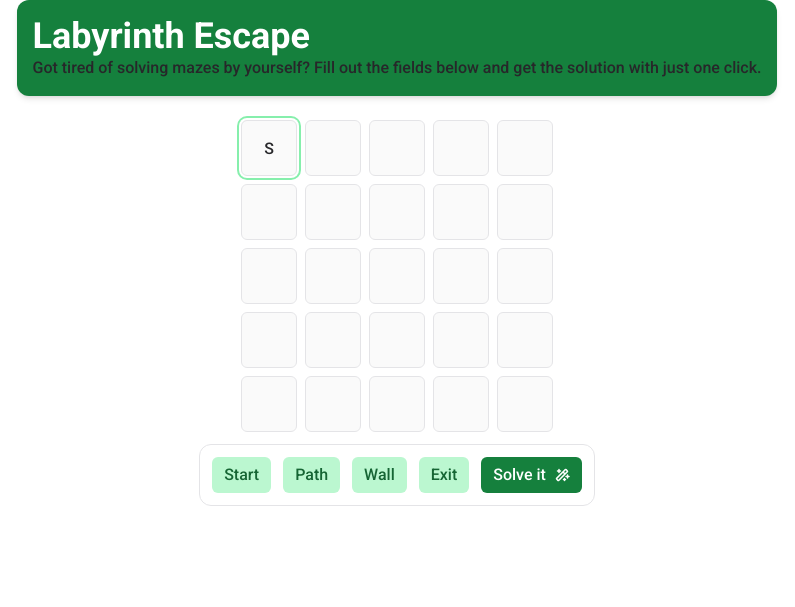
Test: LabyrinthEscape › When a solvable Labyrinth is submitted, it should present a SuccessMessage
The image size is (795, 607).
Click the button with test id "start_button" at (242, 475), box [212, 457, 271, 493]
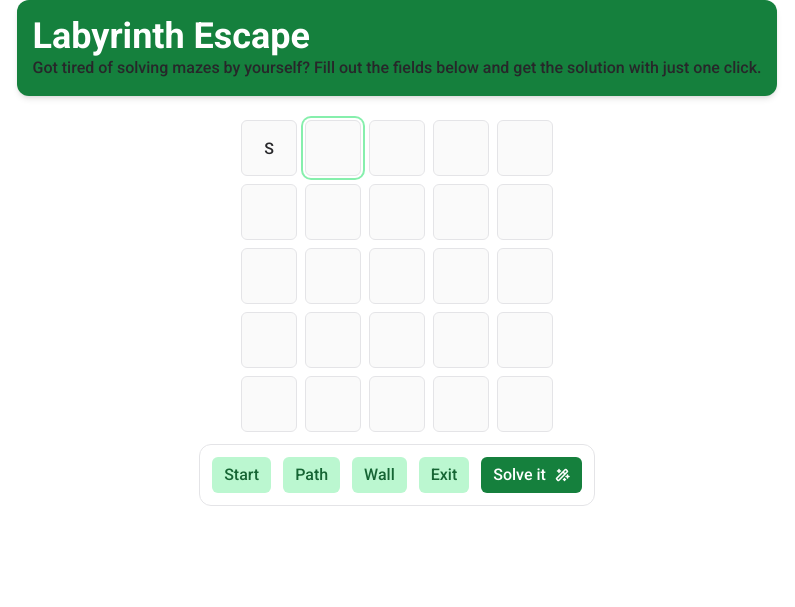
Click the button with test id "exit_button" at (444, 475), box [419, 457, 469, 493]
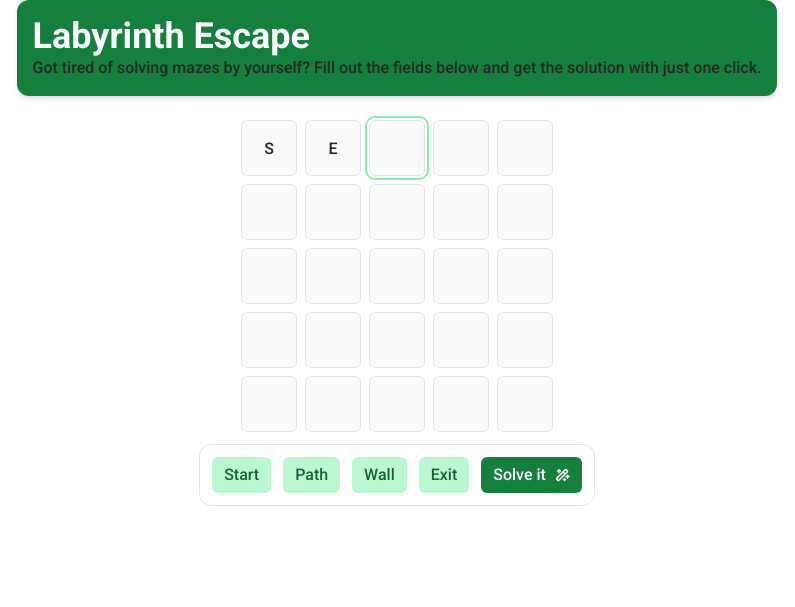
Click the button with test id "submit_button" at (532, 475), box [481, 457, 582, 493]
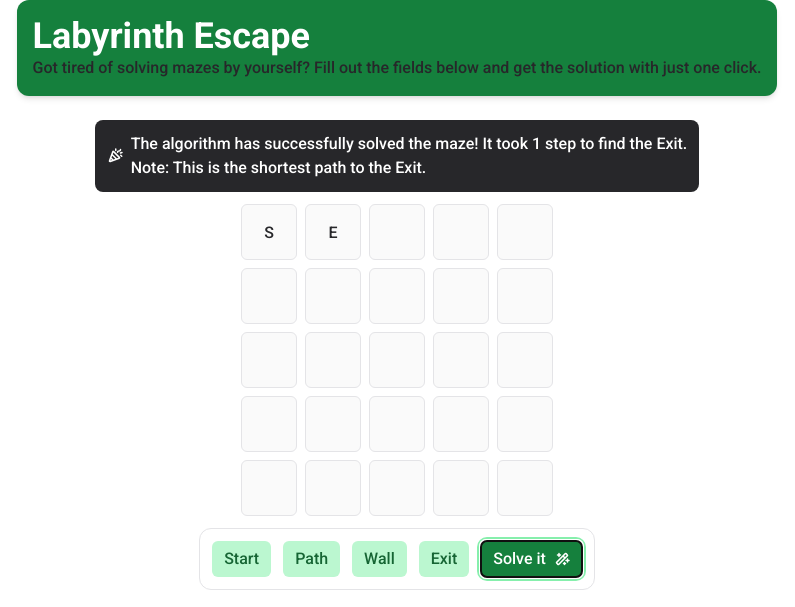
Expected: the element with test id "success_message" is shown, [95, 120, 699, 192]
